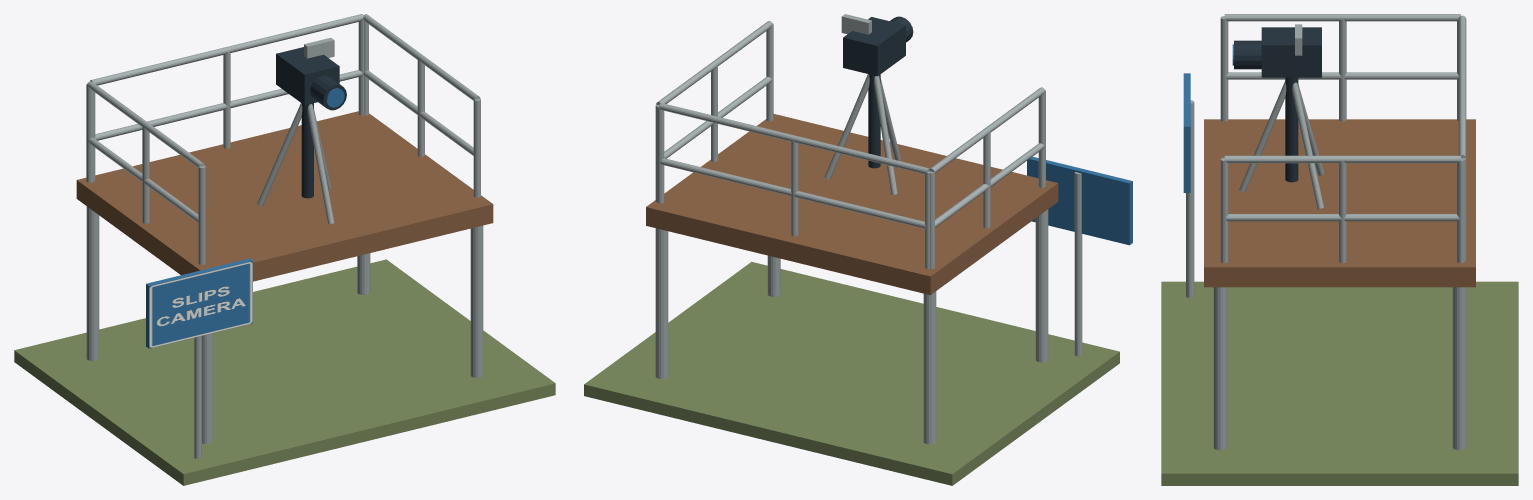
File: scendance-plan-slips.glb
3 renders of one model, left to right at view 1: azimuth 30°, elevation 25°; view 2: azimuth 150°, elevation 25°; view 3: azimuth 270°, elevation 25°, orthographic. The views are drawn at different scales.
Size of the model in its own units: 3.51 by 2.94 by 2.6.
6 materials, 1 textured.
